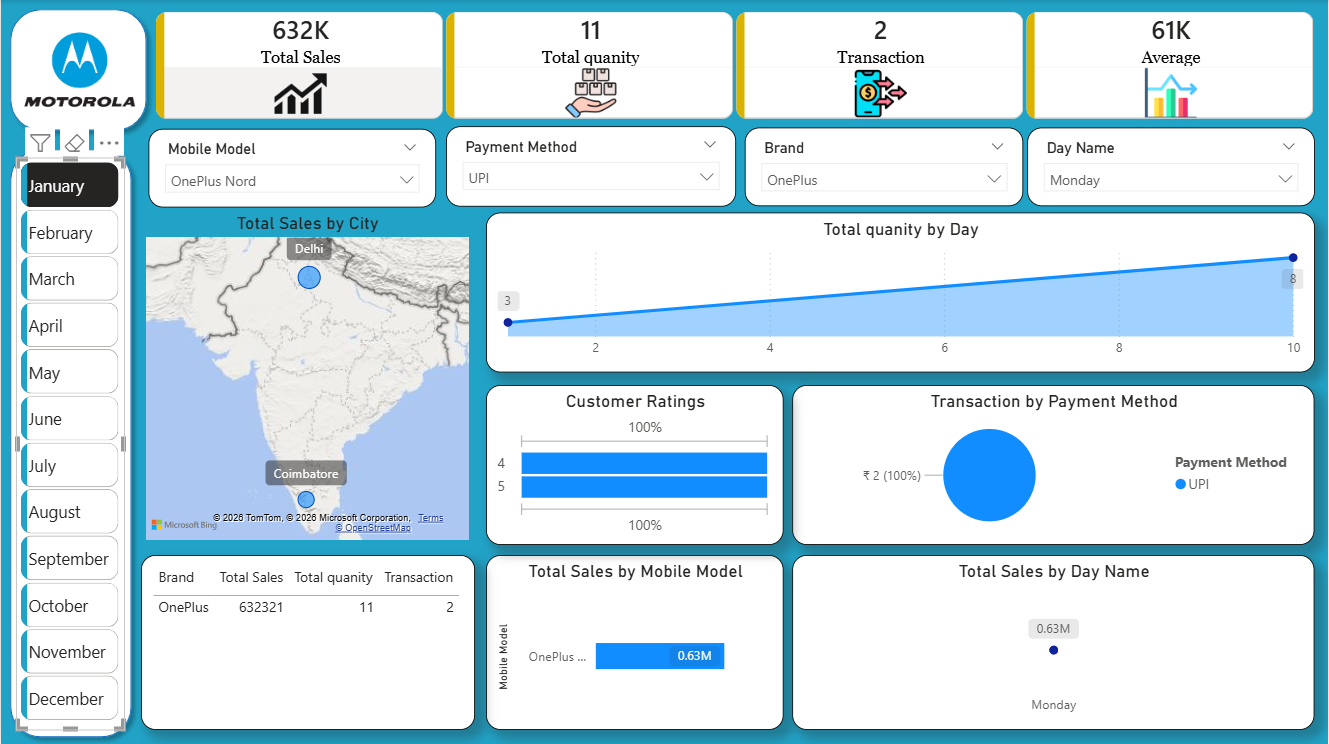

Layout of this report page (visuals, bound fields, positions):
{"tool":"powerbi","page":{"name":"Page 1","canvas":[1280,720],"ordinal":0},"visuals":[{"type":"shape","box":[0,0,149.4,134.9],"z":0},{"type":"image","box":[7.2,30.1,134.9,74.7],"z":1000},{"type":"shape","box":[0,134.9,134.9,585.5],"z":2000},{"type":"advancedSlicerVisual","fields":{"Values":["Sales_Data.Date .Variation.Date Hierarchy.Month"]},"box":[14.5,151.8,104.8,553],"z":3000},{"type":"cardVisual","fields":{"Data":["Sales_Data.Total Sales","Sales_Data.Total quanity","Sales_Data.Transaction","Sales_Data.Average"]},"box":[149.6,8.4,1118.4,109.8],"z":4000},{"type":"map","fields":{"Category":["Sales_Data.City"],"Size":["Sales_Data.Total Sales"]},"box":[135.1,205.1,322.1,320.9],"z":5000},{"type":"lineChart","fields":{"Y":["Sales_Data.Total quanity"],"Category":["Sales_Data.Date .Variation.Date Hierarchy.Month","Sales_Data.Date .Variation.Date Hierarchy.Day"]},"box":[468.1,205.1,799.9,154.4],"z":6000},{"type":"clusteredBarChart","fields":{"Category":["Sales_Data.Mobile Model"],"Y":["Sales_Data.Total Sales"]},"box":[468.1,535.7,287.1,168.9],"z":7000},{"type":"pieChart","fields":{"Y":["Sales_Data.Transaction"],"Category":["Sales_Data.Payment Method"]},"box":[763.7,371.6,504.3,154.4],"z":8000},{"type":"funnel","title":" Customer Ratings","fields":{"Category":["Sales_Data.Customer Ratings"],"Y":["CountNonNull(Sales_Data.Customer Ratings)"]},"box":[468.1,371.6,287.1,154.4],"z":9000},{"type":"areaChart","fields":{"Category":["Sales_Data.Day Name"],"Y":["Sales_Data.Total Sales"]},"box":[763.7,535.7,504.3,168.9],"z":10000},{"type":"tableEx","fields":{"Values":["Sales_Data.Brand","Sales_Data.Total Sales","Sales_Data.Total quanity","Sales_Data.Transaction"]},"box":[135.1,535.7,322.1,168.9],"z":11000},{"type":"slicer","fields":{"Values":["Sales_Data.Mobile Model"]},"box":[149.6,123.1,277.5,76],"z":12000},{"type":"slicer","fields":{"Values":["Sales_Data.Payment Method"]},"box":[429.5,121.9,279.9,77.2],"z":13000},{"type":"slicer","fields":{"Values":["Sales_Data.Brand"]},"box":[717.8,123.1,269,76],"z":14000},{"type":"slicer","fields":{"Values":["Sales_Data.Day Name"]},"box":[990.5,123.1,277.5,76],"z":15000}]}

Visuals, with their boxes in screenshot pixels (x1, y1, x2, y2), scaled from the page's 1280x720 canvas onto the 1329x744 screenshot:
shape: x1=0 y1=0 x2=155 y2=139
image: x1=7 y1=31 x2=148 y2=108
shape: x1=0 y1=139 x2=140 y2=743
advancedSlicerVisual - Sales_Data.Date .Variation.Date Hierarchy.Month: x1=15 y1=157 x2=124 y2=728
cardVisual - Sales_Data.Total Sales x Sales_Data.Total quanity: x1=155 y1=9 x2=1317 y2=122
map - Sales_Data.City x Sales_Data.Total Sales: x1=140 y1=212 x2=475 y2=544
lineChart - Sales_Data.Total quanity x Sales_Data.Date .Variation.Date Hierarchy.Month: x1=486 y1=212 x2=1317 y2=371
clusteredBarChart - Sales_Data.Mobile Model x Sales_Data.Total Sales: x1=486 y1=554 x2=784 y2=728
pieChart - Sales_Data.Transaction x Sales_Data.Payment Method: x1=793 y1=384 x2=1317 y2=544
" Customer Ratings" funnel: x1=486 y1=384 x2=784 y2=544
areaChart - Sales_Data.Day Name x Sales_Data.Total Sales: x1=793 y1=554 x2=1317 y2=728
tableEx - Sales_Data.Brand x Sales_Data.Total Sales: x1=140 y1=554 x2=475 y2=728
slicer - Sales_Data.Mobile Model: x1=155 y1=127 x2=443 y2=206
slicer - Sales_Data.Payment Method: x1=446 y1=126 x2=737 y2=206
slicer - Sales_Data.Brand: x1=745 y1=127 x2=1025 y2=206
slicer - Sales_Data.Day Name: x1=1028 y1=127 x2=1317 y2=206
